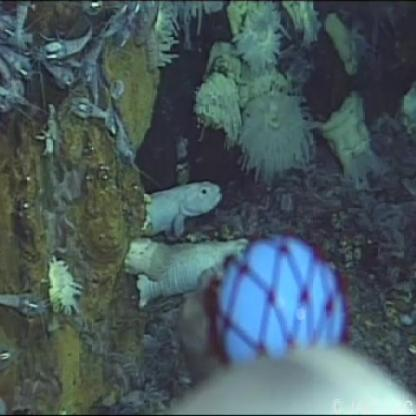Bio: (1, 1, 158, 154), (114, 177, 262, 311)
Rov: (188, 237, 413, 416)
